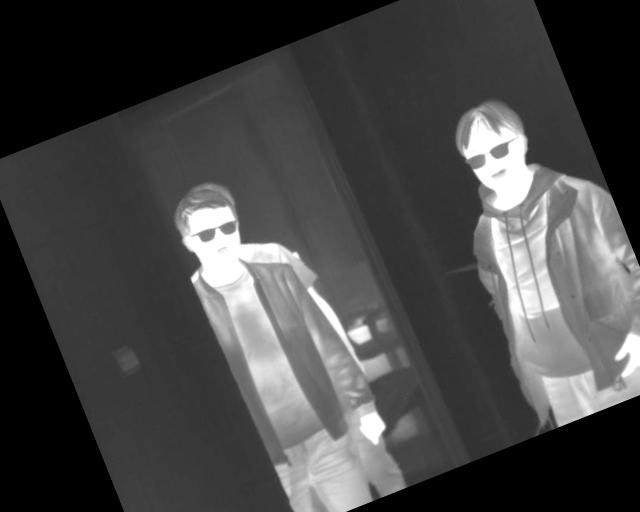face: (444, 88, 543, 200), (165, 178, 255, 283)
